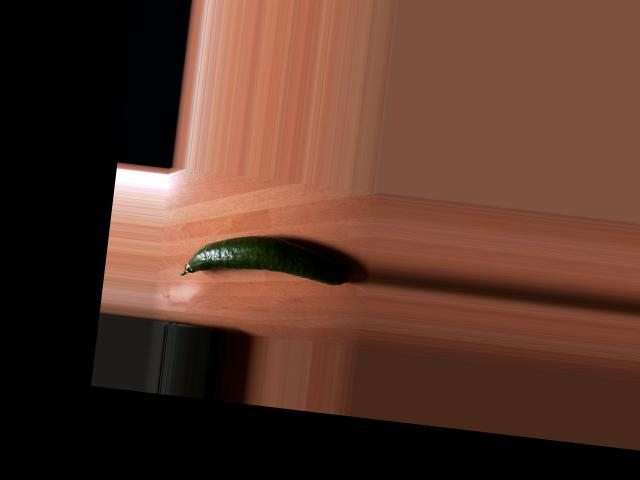cucumber: (179, 225, 353, 294)
